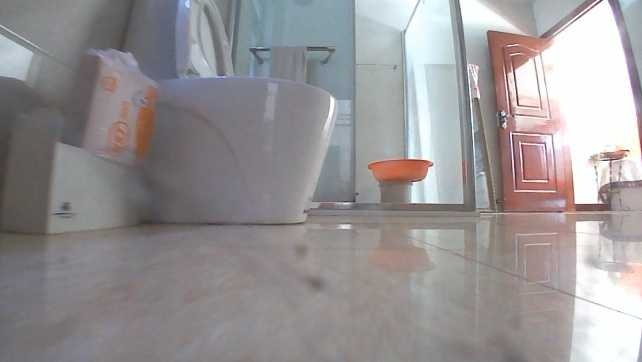toilet: (112, 0, 340, 230)
